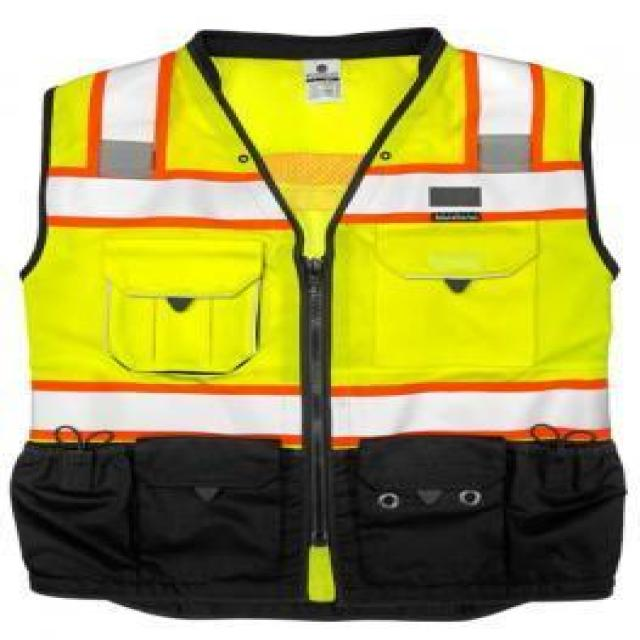Vest: (17, 18, 628, 627)
